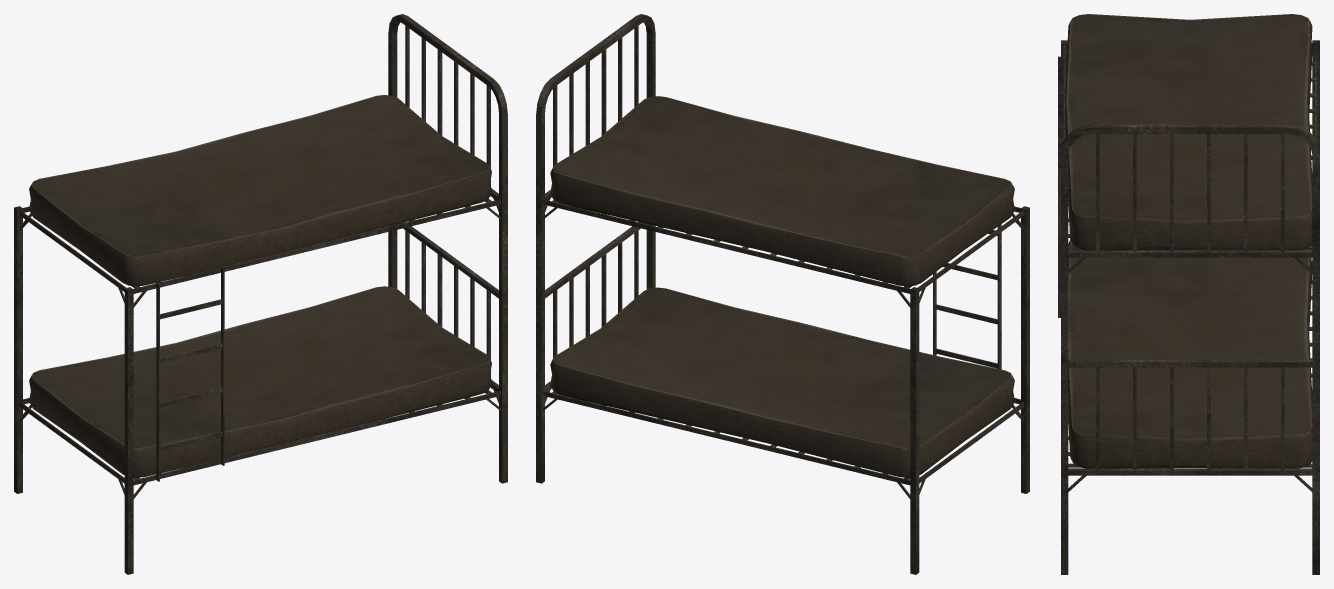
The model's file is bed_2_1.glb.
The picture shows the model from 3 angles, left to right: view 1: azimuth 30°, elevation 25°; view 2: azimuth 150°, elevation 25°; view 3: azimuth 270°, elevation 25°; orthographic projection. The views are drawn at different scales.
Visible parts, largest first — view 1: bed_2_1; view 2: bed_2_1; view 3: bed_2_1.
Part boxes in pixels (x1,y1,x2,y2): bed_2_1: [14, 14, 507, 574]; bed_2_1: [536, 14, 1029, 574]; bed_2_1: [1058, 14, 1319, 574].
Size of the model in its own units: 2.7 by 2.67 by 1.41.
Materials: 2 (2 with a texture image).
